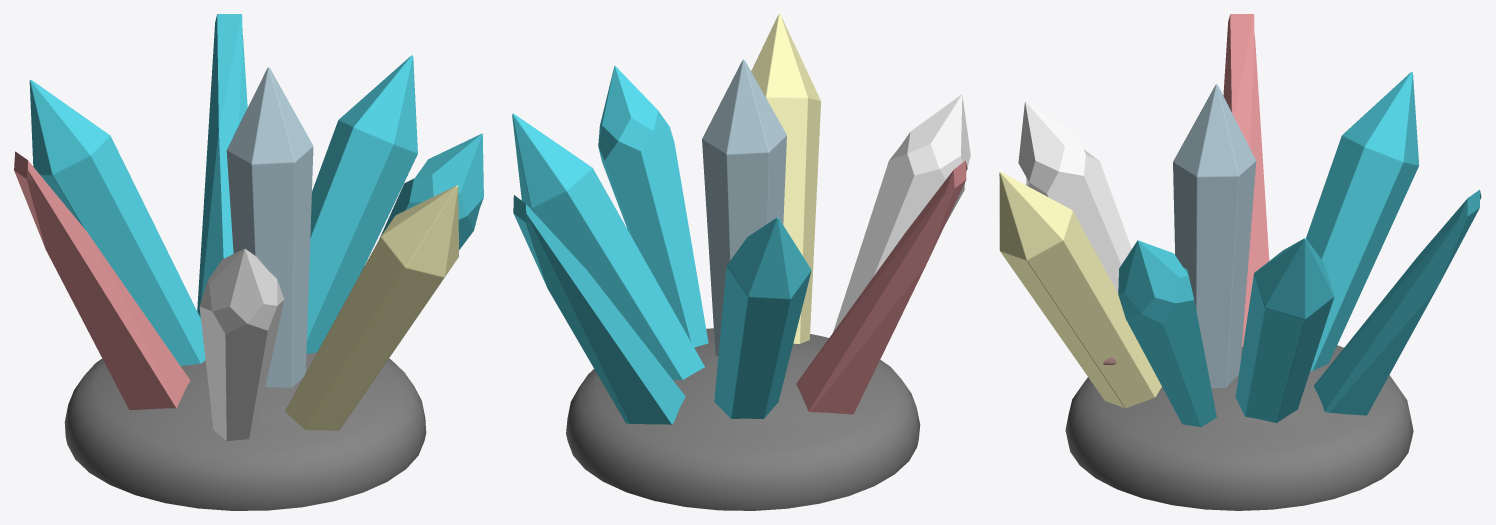
File: crystal.fbx
3 views of the same model, side by side, from view 1: azimuth 30°, elevation 25°; view 2: azimuth 150°, elevation 25°; view 3: azimuth 270°, elevation 25° (orthographic). The views are drawn at different scales.
Visible parts, largest first — view 1: Sphere, Cone.005, Cone.003, Cone.004, Cone, Plane.001, Cone.008, Plane.002, Cone.006; view 2: Sphere, Cone.004, Cone.006, Cone.005, Cone, Plane.002, Plane.001, Cone.008, Cone.003; view 3: Sphere, Cone.003, Cone, Cone.005, Cone.004, Cone.006, Plane.002, Cone.008, Plane.001.
Boxes of the visible parts, box(x1,y1,x2,y2) form: Sphere: box(64, 352, 426, 510); Cone.005: box(29, 79, 205, 365); Cone.003: box(285, 185, 458, 430); Cone.004: box(306, 55, 417, 354); Cone: box(226, 67, 313, 387); Plane.001: box(14, 151, 190, 409); Cone.008: box(199, 248, 284, 440); Plane.002: box(197, 14, 247, 318); Cone.006: box(379, 133, 483, 249); Sphere: box(566, 328, 920, 510); Cone.004: box(512, 113, 704, 380); Cone.006: box(598, 65, 708, 347); Cone.005: box(714, 217, 811, 418); Cone: box(702, 59, 786, 355); Plane.002: box(513, 195, 685, 424); Plane.001: box(796, 161, 967, 414); Cone.008: box(833, 94, 970, 332); Cone.003: box(751, 14, 820, 343); Sphere: box(1065, 345, 1413, 510); Cone.003: box(999, 172, 1161, 408); Cone: box(1173, 84, 1256, 388); Cone.005: box(1306, 72, 1418, 370); Cone.004: box(1235, 238, 1334, 422); Cone.006: box(1118, 240, 1216, 427); Plane.002: box(1314, 189, 1481, 415); Cone.008: box(1018, 101, 1131, 293); Plane.001: box(1223, 14, 1269, 346).
Size of the model in its own units: 6.31 by 6.18 by 5.19.
